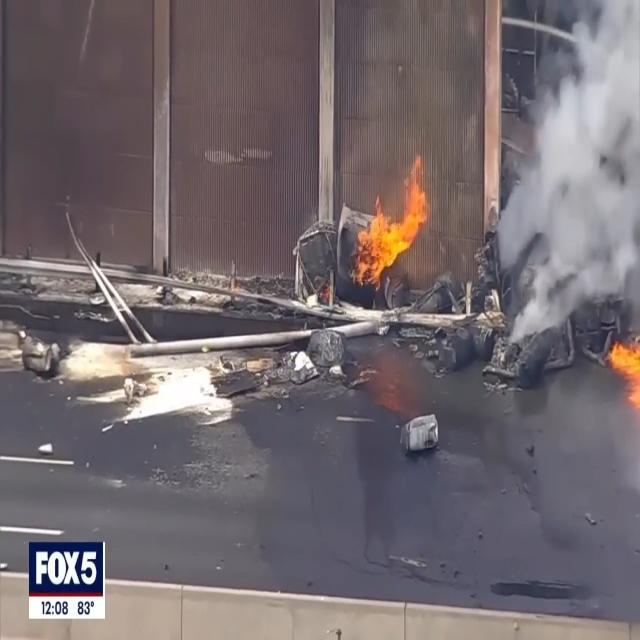fire: (357, 152, 437, 287)
